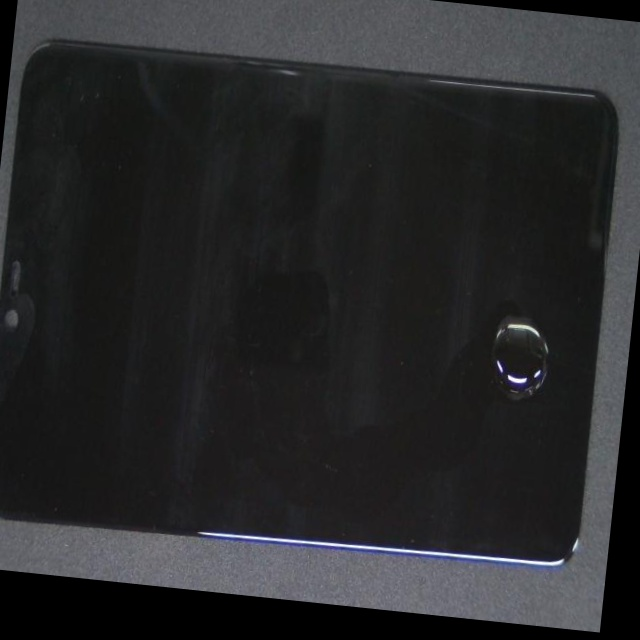oil: (214, 181, 640, 589)
